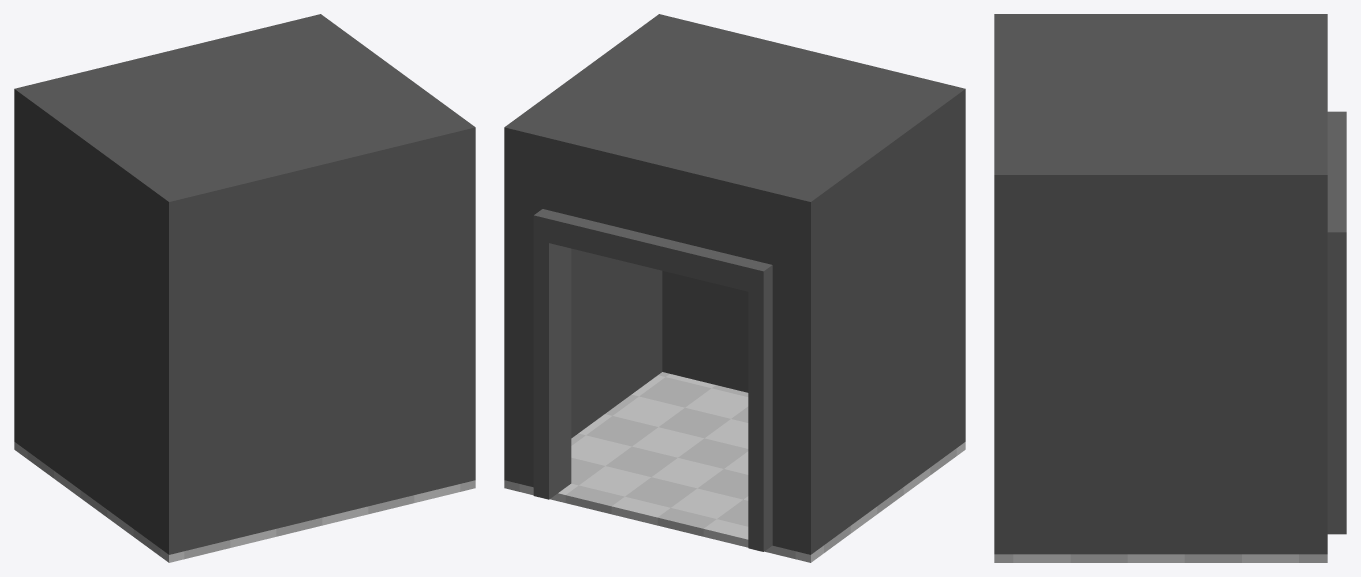
File: elevator.obj
3 views of the same model, side by side, from view 1: azimuth 30°, elevation 25°; view 2: azimuth 150°, elevation 25°; view 3: azimuth 270°, elevation 25° (orthographic). The views are drawn at different scales.
Size of the model in its own units: 4 by 4.5 by 3.7.
Materials: 1 (1 with a texture image).
